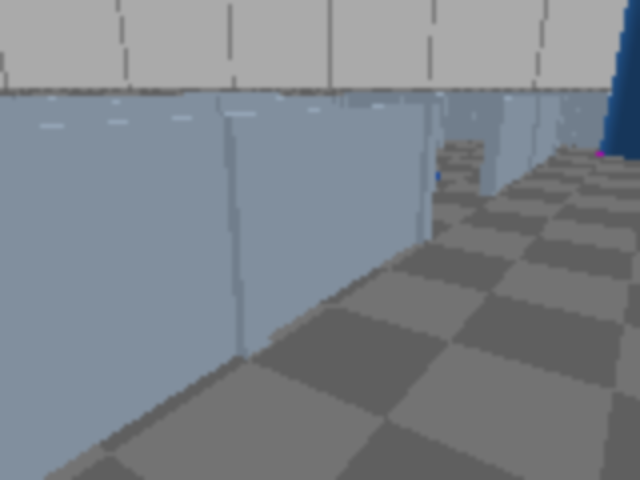person: (600, 0, 638, 159)
